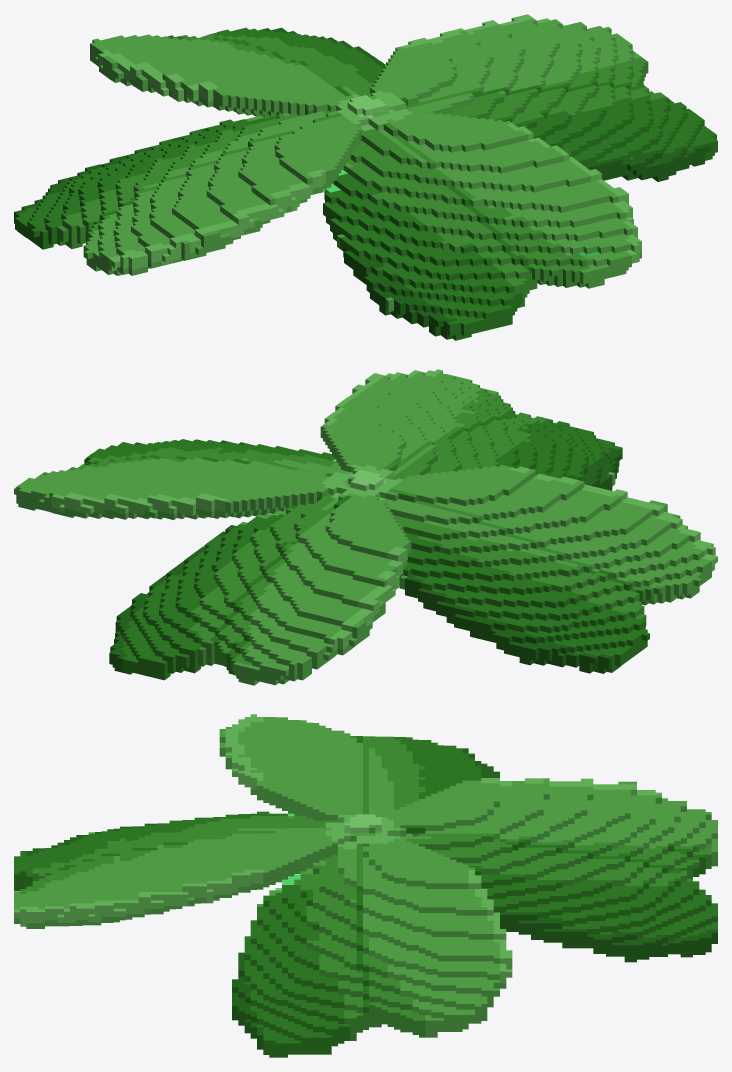
The model's file is pan_1.FBX.
The picture shows the model from 3 angles, top to bottom: view 1: azimuth 30°, elevation 25°; view 2: azimuth 150°, elevation 25°; view 3: azimuth 270°, elevation 25°; orthographic projection. The views are drawn at different scales.
Visible parts, largest first — view 1: default036; view 2: default036; view 3: default036.
Boxes of the visible parts, <box> form: default036: <box>14,14,717,340</box>; default036: <box>14,369,717,685</box>; default036: <box>14,714,717,1057</box>.
Size of the model in its own units: 3420 by 480 by 3390.
